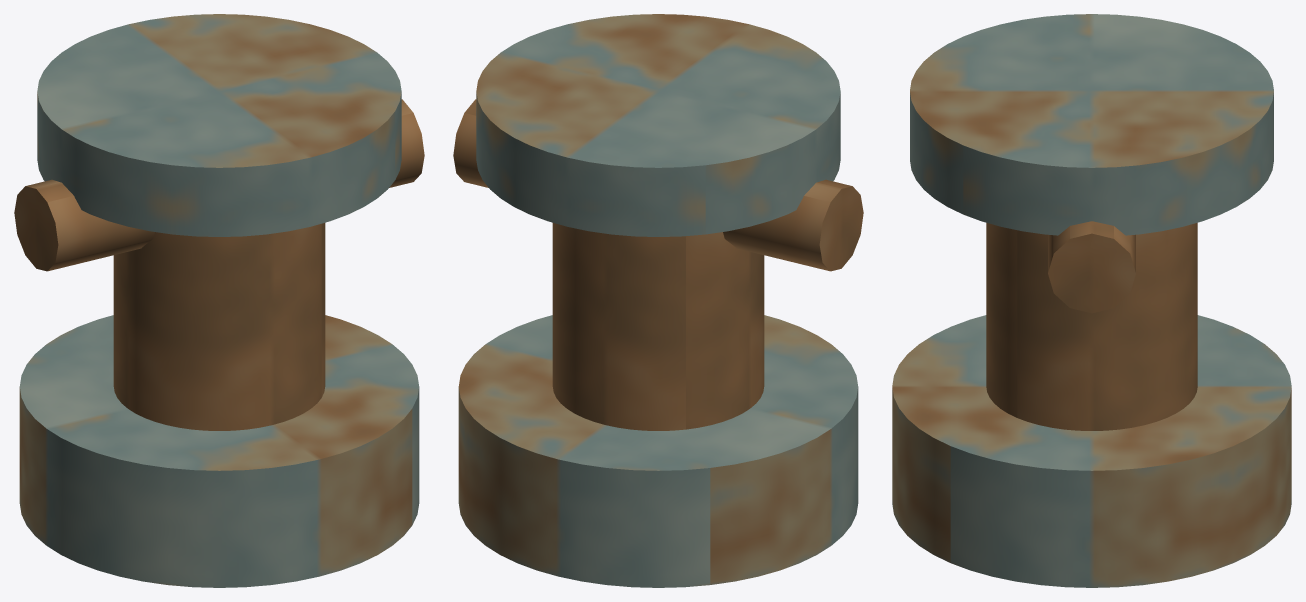
The model's file is Bollard.glb.
The picture shows the model from 3 angles, left to right: view 1: azimuth 30°, elevation 25°; view 2: azimuth 150°, elevation 25°; view 3: azimuth 270°, elevation 25°; orthographic projection.
Visible parts, largest first — view 1: Bollard; view 2: Bollard; view 3: Bollard.
Part boxes in pixels (x1,y1,x2,y2): Bollard: (14,14,424,587); Bollard: (453,14,863,587); Bollard: (892,14,1291,587).
Size of the model in its own units: 0.72 by 0.775 by 0.68.
2 materials, 2 textured.
